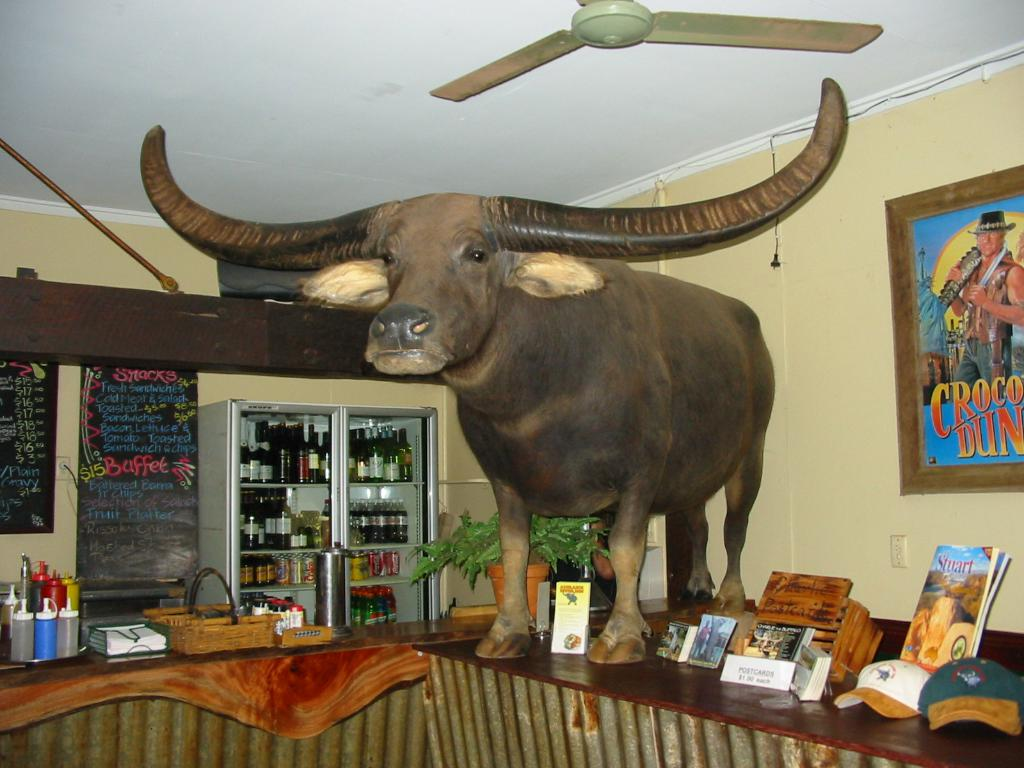Animal: (138, 74, 844, 664)
